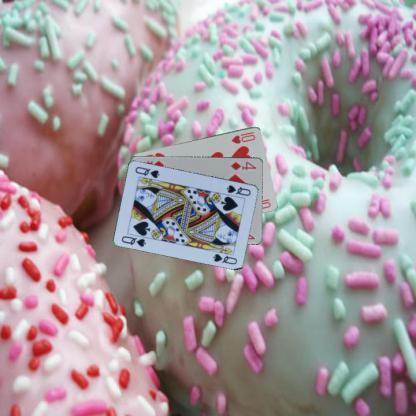10h: (228, 129, 256, 145)
4d: (228, 159, 258, 171)
Qs: (118, 233, 147, 248), (224, 182, 252, 197)
